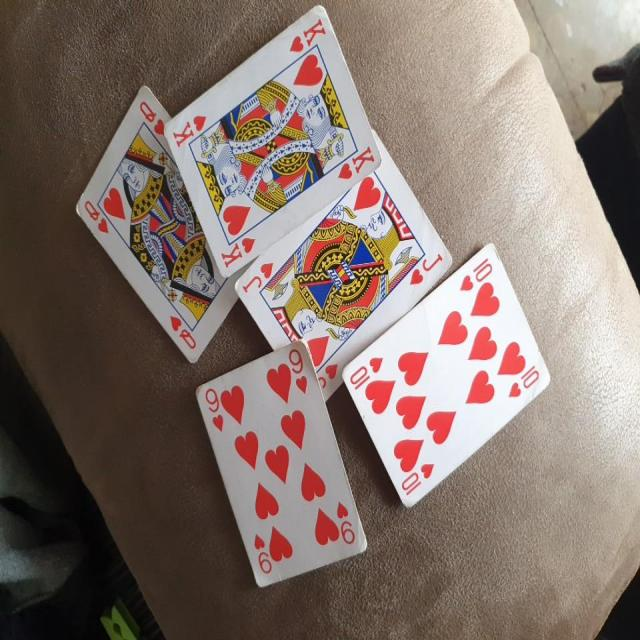10 Hearts: (341, 242, 560, 517)
9 Hearts: (189, 332, 373, 590)
J Hearts: (234, 138, 447, 397)
K Hearts: (163, 2, 379, 277)
Q Hearts: (71, 80, 240, 367)
